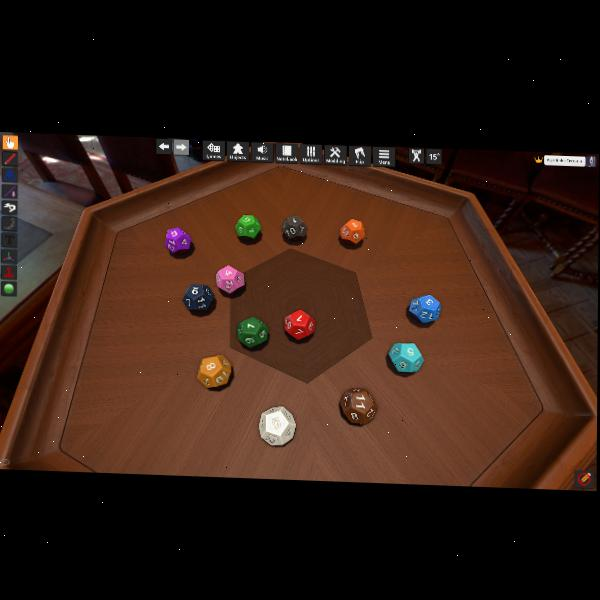d12: (258, 404, 296, 447), (339, 388, 373, 425), (196, 354, 228, 388), (236, 315, 267, 347), (284, 307, 314, 339), (408, 293, 440, 323), (390, 342, 421, 372), (183, 283, 213, 311), (214, 265, 242, 294), (165, 226, 191, 254), (235, 213, 261, 239), (340, 218, 364, 245), (282, 215, 306, 241)
